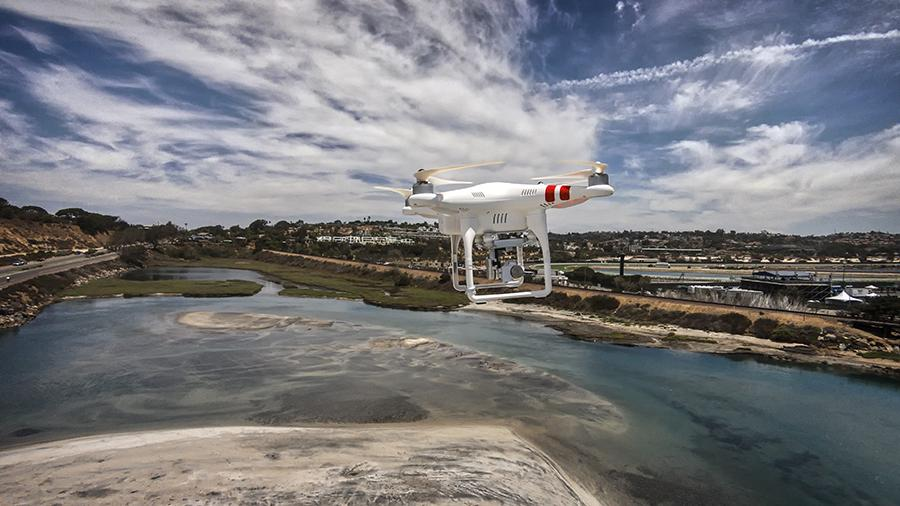drone: (375, 158, 627, 309)
